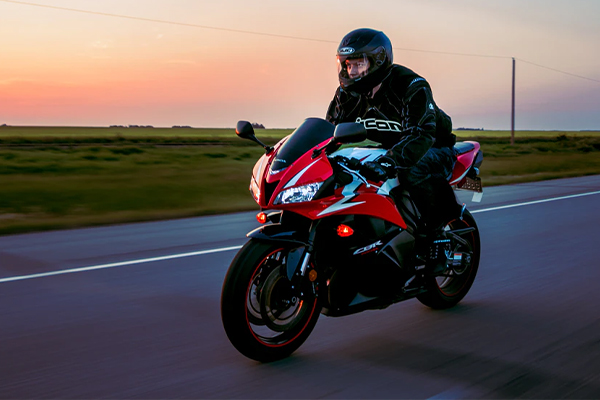Motorcycle: (229, 114, 497, 355)
